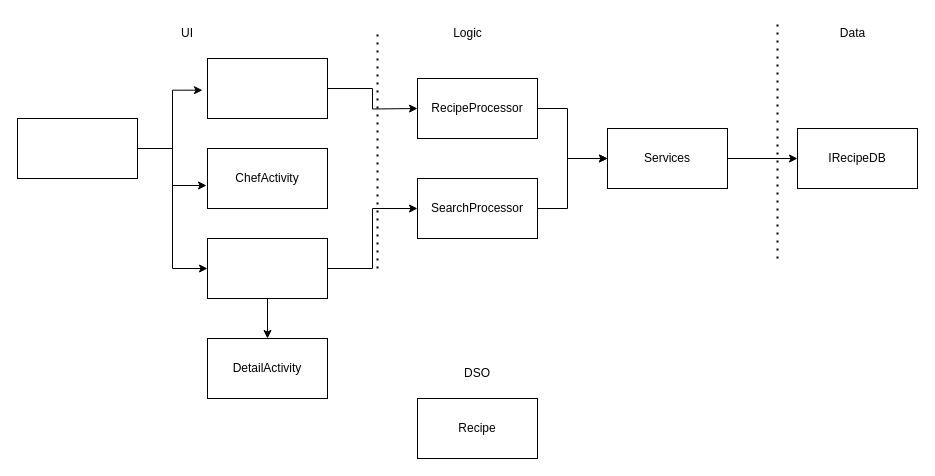
This 935x476 diagram has some shape labels left out. Here are the shapes that lost their labels. From the top down, the centre of each, then its label:
At [267,88]: "CreateActivity".
At [77,148]: "MainActivity".
At [267,268]: "SearchActivity".
